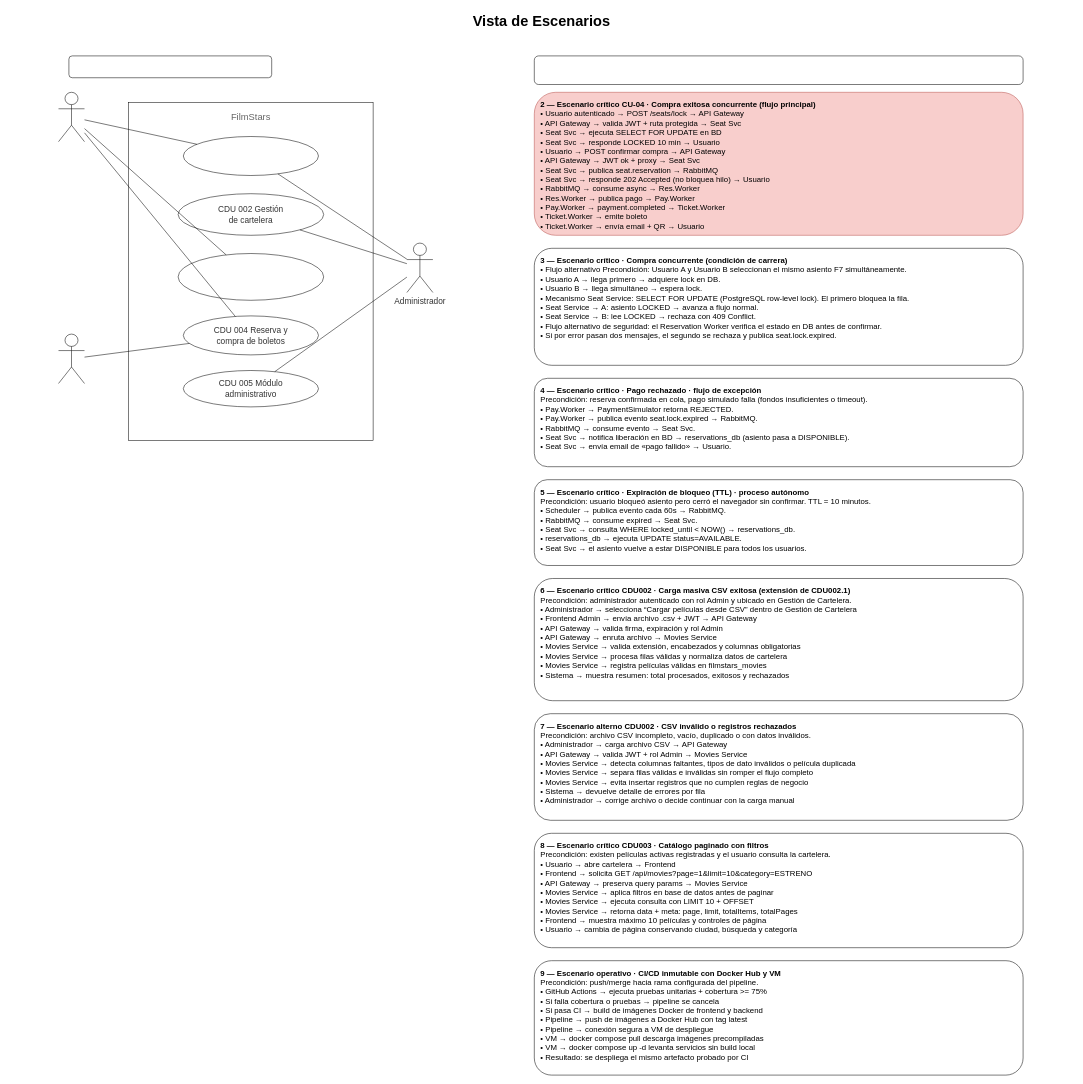
Image size: 1083x1084. Some labels were removed from this diagram. The shapes that lost their labels are listed below. From the top down, each one's box as (x1, y1, x2, y2) in pixels, then its label:
(68, 55, 272, 78): 1— Diagrama de casos de uso de alto nivel actualizado
(534, 55, 1023, 84): FilmStars - UML Scenario Views (CU-04 / CU-05 / CDU002 / CDU003 / CI-CD)
(58, 92, 84, 142): Usuario
(183, 136, 318, 176): CDU 001 Autenticación y gestión de usuarios
(178, 253, 324, 300): CDU 003 Búsqueda y visualización de cartelera
(58, 334, 84, 384): Sistema de pago
